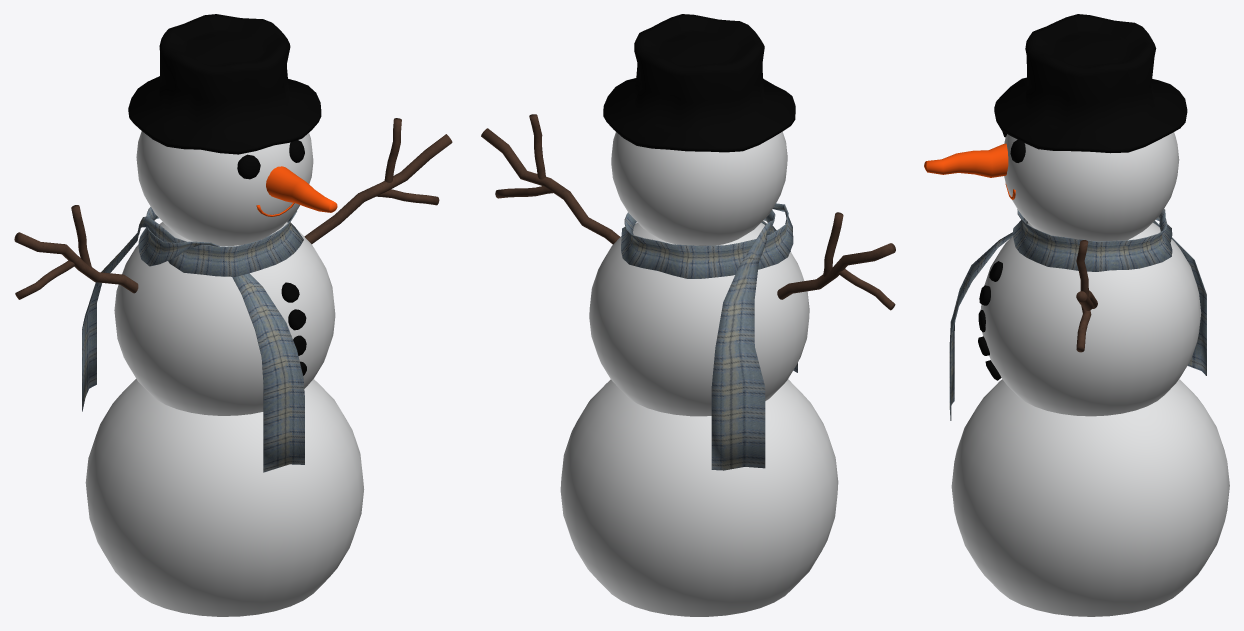
Rendered from snowman_finish.fbx.
3 views of the same model, side by side, from view 1: azimuth 30°, elevation 25°; view 2: azimuth 150°, elevation 25°; view 3: azimuth 270°, elevation 25° (orthographic).
Visible parts, largest first — view 1: snowman2; view 2: snowman2; view 3: snowman2.
Boxes of the visible parts, left/top/right/bottom form: snowman2: left=14, top=14, right=452, bottom=616; snowman2: left=481, top=14, right=895, bottom=616; snowman2: left=924, top=14, right=1229, bottom=616.
Size of the model in its own units: 144 by 174 by 90.28.
1 material, 1 textured.
